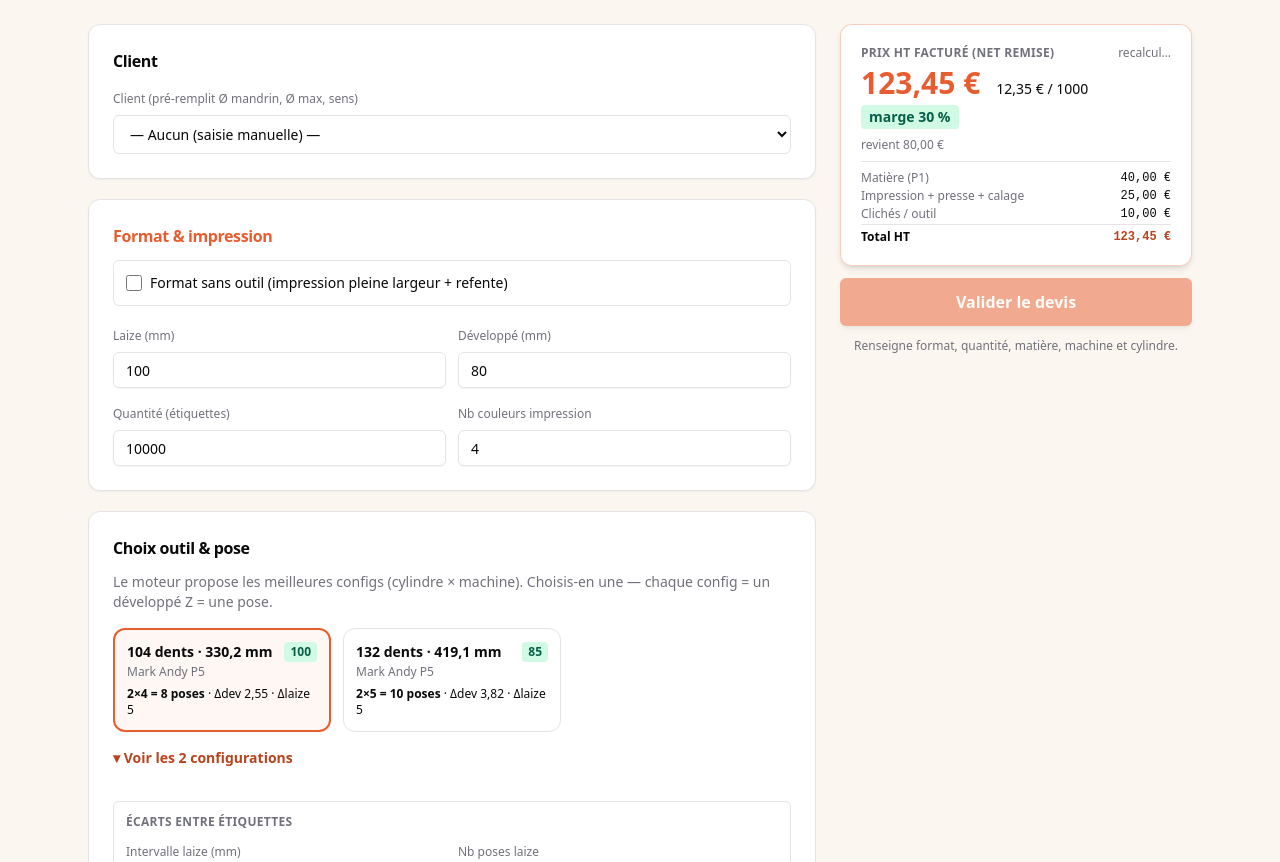
Test: DevisPageUnique — page devis réactive › sélection client → pré-remplit le profil bobine (mandrin, Ø max, sens)
Select "ACME Étiquettes" in the dropdown with test id "d-client" at (452, 134), box x1=113 y1=115 x2=791 y2=154
(page scrolled)
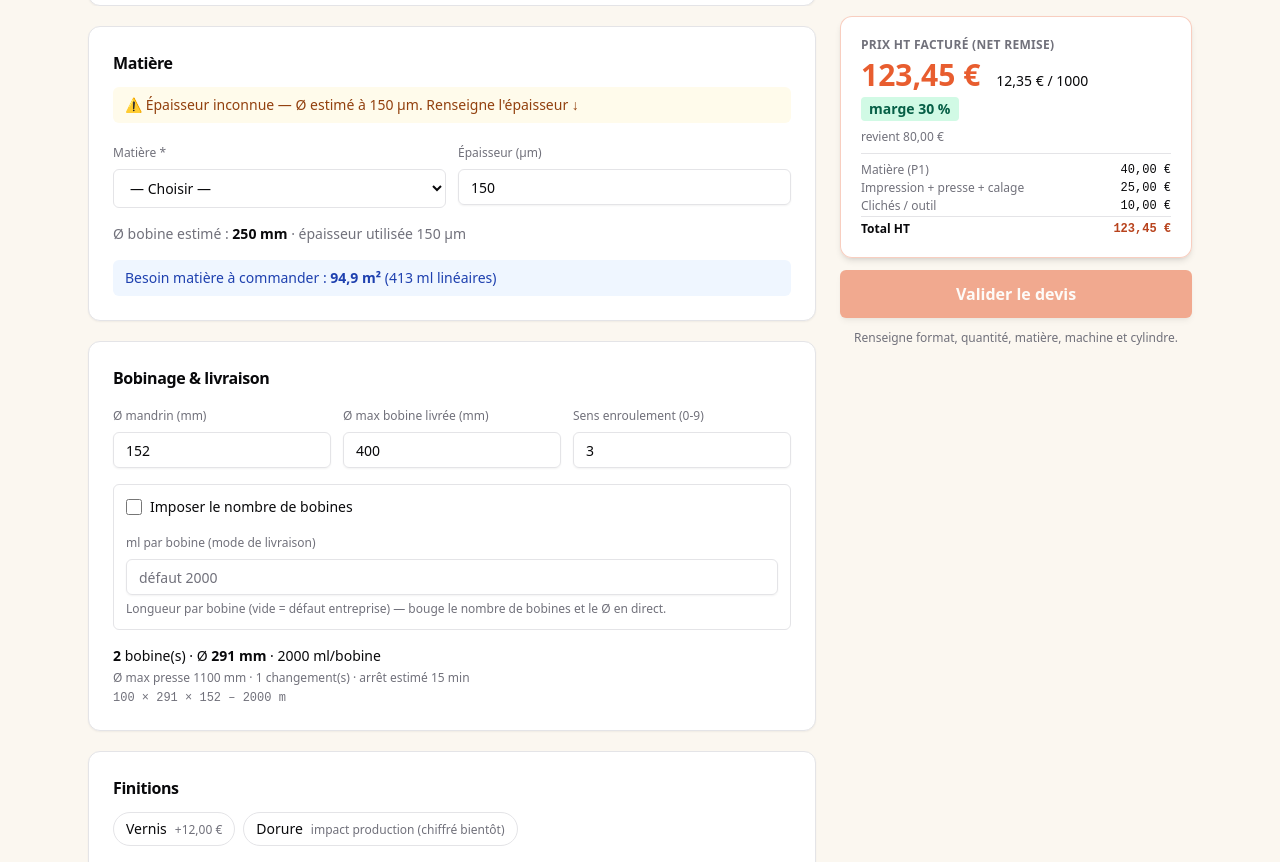
Check: the number field with test id "b-mandrin" holds "152", box x1=113 y1=432 x2=331 y2=468
Check: the number field with test id "b-diametre-max" holds "400", box x1=343 y1=432 x2=561 y2=468
Check: the number field with test id "b-sens" holds "3", box x1=573 y1=432 x2=791 y2=468
